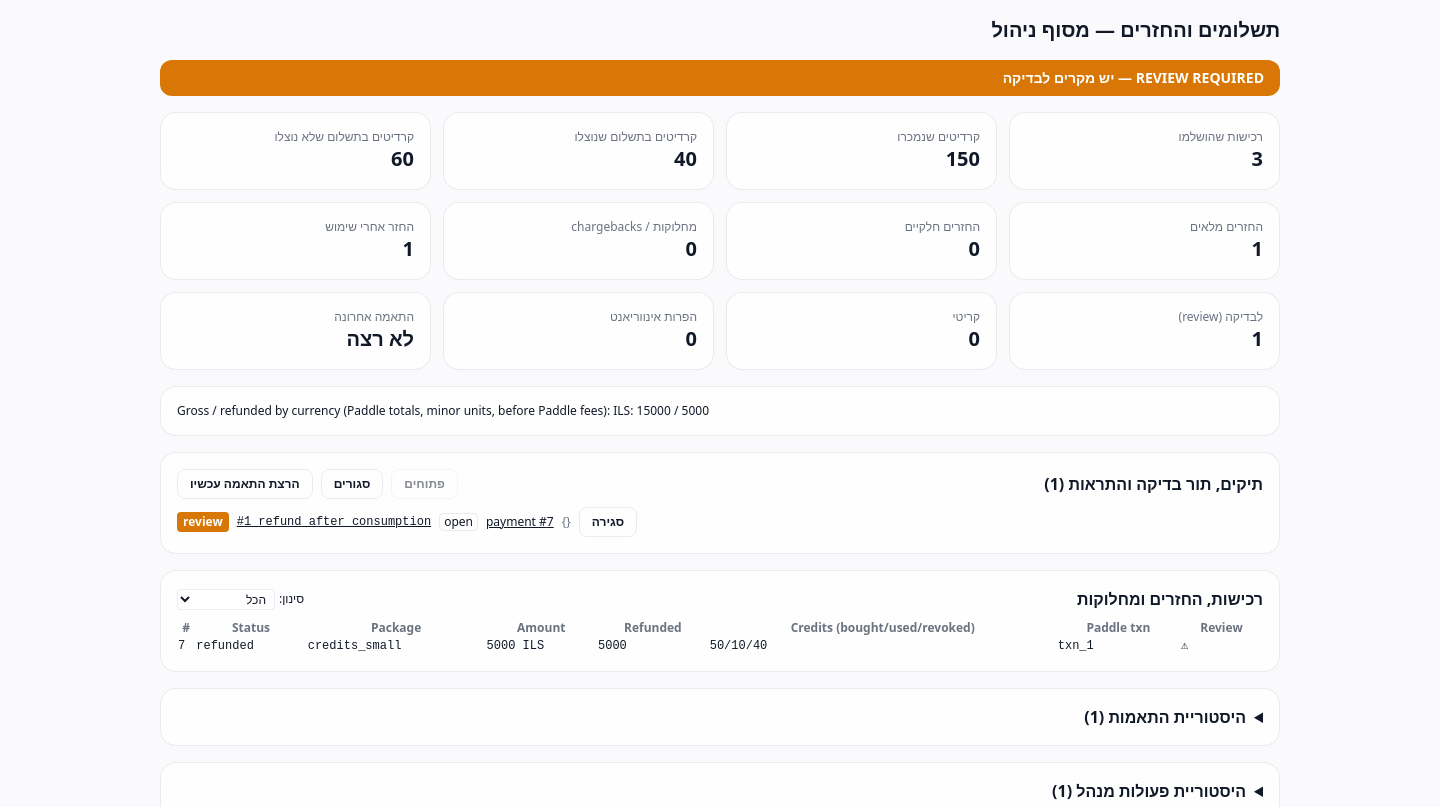
Test: shows health, metrics, review queue, and a purchase with timeline and evidence
Expected: the text with test id "health" shows "REVIEW REQUIRED", top-left (1003, 68), bottom-right (1264, 87)
Expected: the text "60" is shown, top-left (391, 145), bottom-right (414, 172)
Click the text "txn_1". click: (1076, 646)
box: top-left (1057, 637), bottom-right (1180, 655)
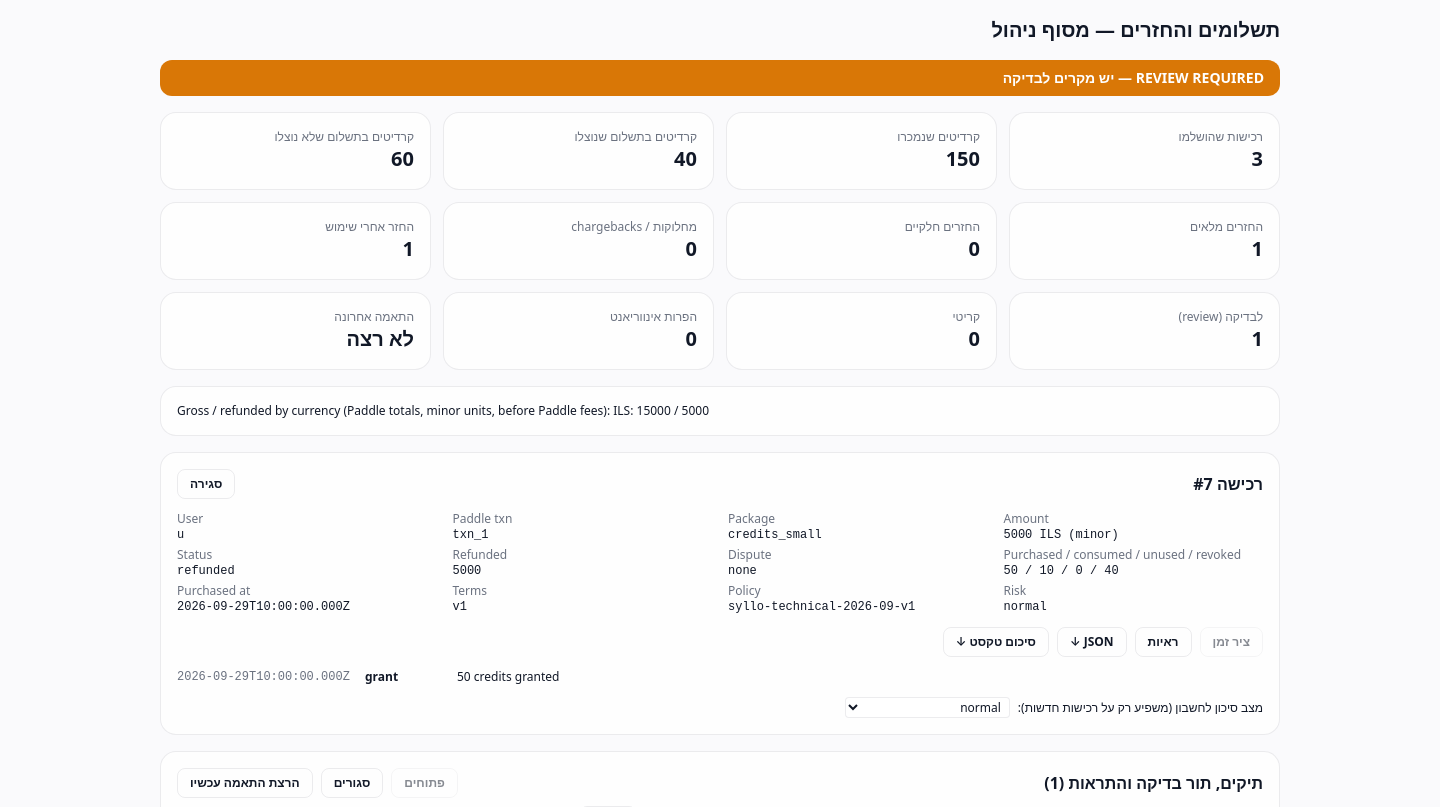
Expected: the element with test id "payment-detail" shows "50 credits granted", top-left (457, 668), bottom-right (560, 685)
Click the button "ראיות". click: (1163, 642)
box: top-left (1135, 627), bottom-right (1192, 657)
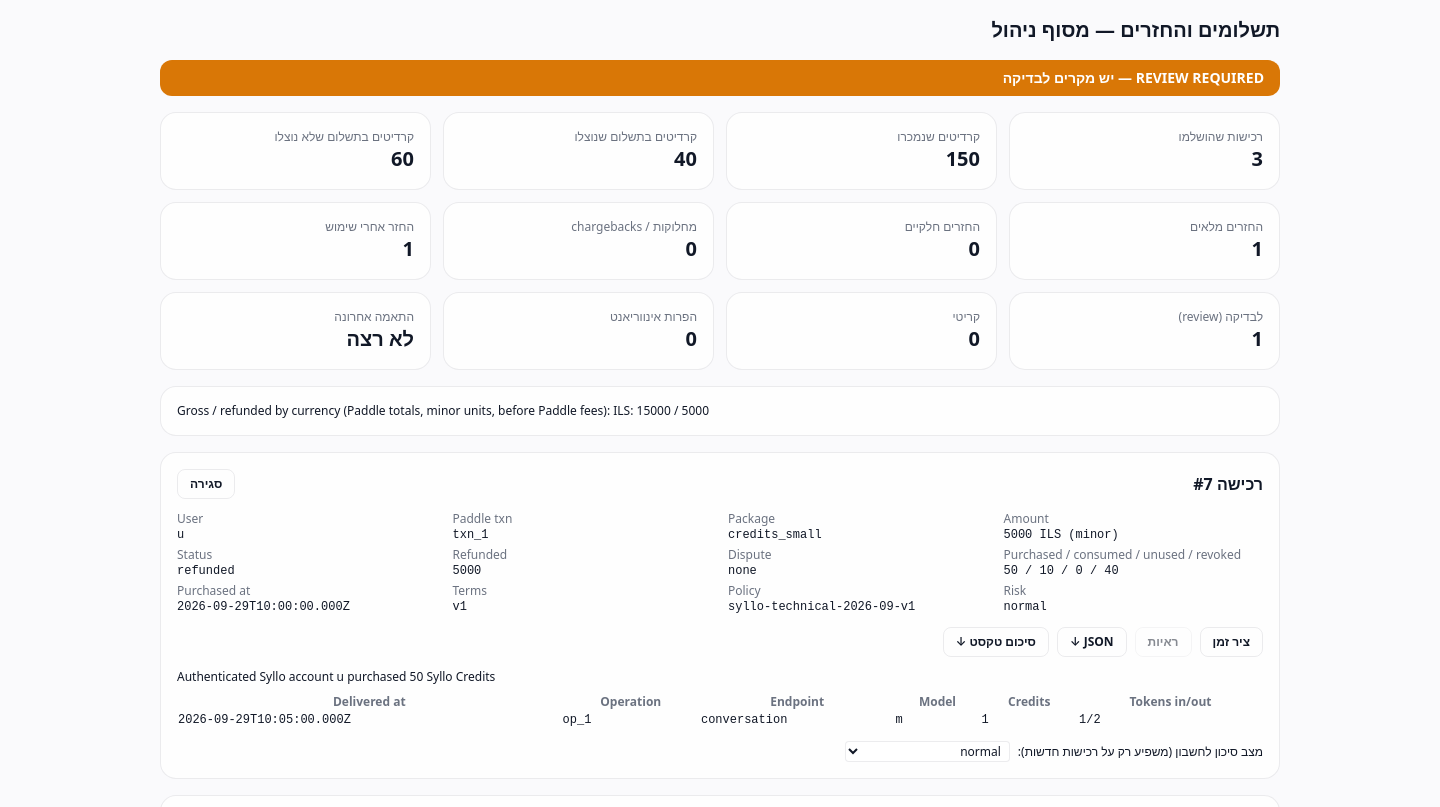
Expected: the element with test id "payment-detail" shows "op_1", top-left (563, 713), bottom-right (591, 727)
